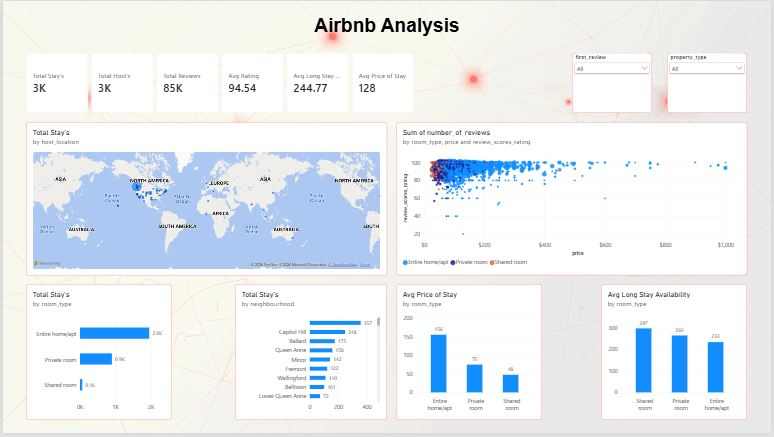

What the dashboard file says about the page in this screenshot:
{"tool":"powerbi","page":{"name":"Home","canvas":[1920,1080],"ordinal":0},"visuals":[{"type":"image","box":[0,0,1920,1080],"z":0},{"type":"textbox","box":[772.5,32.5,375,95],"z":1},{"type":"cardVisual","fields":{"Data":["Measures_Own.Totel Stay's","Measures_Own.Total Host's","Measures_Own.Total Reviews","Measures_Own.Avg Rating","Measures_Own.Avg Long Stay Availability","Measures_Own.Avg Price of Stay"]},"box":[56.7,130,970,150],"z":2},{"type":"map","fields":{"Category":["listings.host_location"],"Size":["Measures_Own.Totel Stay's"]},"box":[57.5,302.5,902.5,385],"z":3},{"type":"scatterChart","fields":{"Series":["listings.room_type"],"Size":["Sum(listings.number_of_reviews)"],"X":["listings.price"],"Y":["listings.review_scores_rating"]},"box":[982.5,302.5,877.5,382.5],"z":4},{"type":"clusteredBarChart","fields":{"Category":["listings.room_type"],"Y":["Measures_Own.Totel Stay's"]},"box":[57.5,707.5,365,340],"z":5},{"type":"clusteredBarChart","fields":{"Category":["listings.neighbourhood"],"Y":["Measures_Own.Totel Stay's"]},"box":[580,707.5,380,340],"z":6},{"type":"clusteredColumnChart","fields":{"Category":["listings.room_type"],"Y":["Measures_Own.Avg Price of Stay"]},"box":[982.5,707.5,365,340],"z":7},{"type":"clusteredColumnChart","fields":{"Category":["listings.room_type"],"Y":["Measures_Own.Avg Long Stay Availability"]},"box":[1495,707.5,365,340],"z":8},{"type":"slicer","fields":{"Values":["listings.property_type"]},"box":[1660,130,200,150],"z":9},{"type":"slicer","fields":{"Values":["listings.first_review"]},"box":[1422.5,130,200,150],"z":10}]}

Visuals, with their boxes in screenshot pixels (x1, y1, x2, y2), scaled from the page's 1920x1080 canvas onto the 774x437 screenshot:
image: [0,0,773,436]
textbox: [311,13,463,52]
cardVisual - Measures_Own.Totel Stay's x Measures_Own.Total Host's: [23,53,414,113]
map - listings.host_location x Measures_Own.Totel Stay's: [23,122,387,278]
scatterChart - listings.room_type x Sum(listings.number_of_reviews): [396,122,750,277]
clusteredBarChart - listings.room_type x Measures_Own.Totel Stay's: [23,286,170,424]
clusteredBarChart - listings.neighbourhood x Measures_Own.Totel Stay's: [234,286,387,424]
clusteredColumnChart - listings.room_type x Measures_Own.Avg Price of Stay: [396,286,543,424]
clusteredColumnChart - listings.room_type x Measures_Own.Avg Long Stay Availability: [603,286,750,424]
slicer - listings.property_type: [669,53,750,113]
slicer - listings.first_review: [573,53,654,113]
